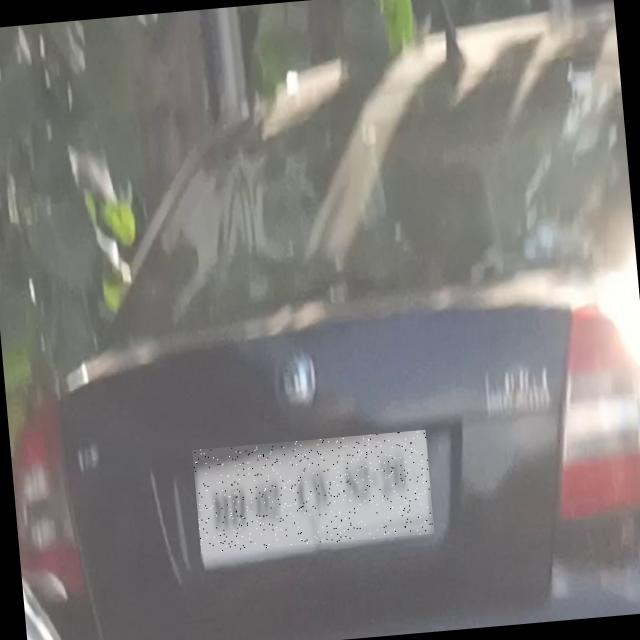Plate: (193, 431, 435, 555)
